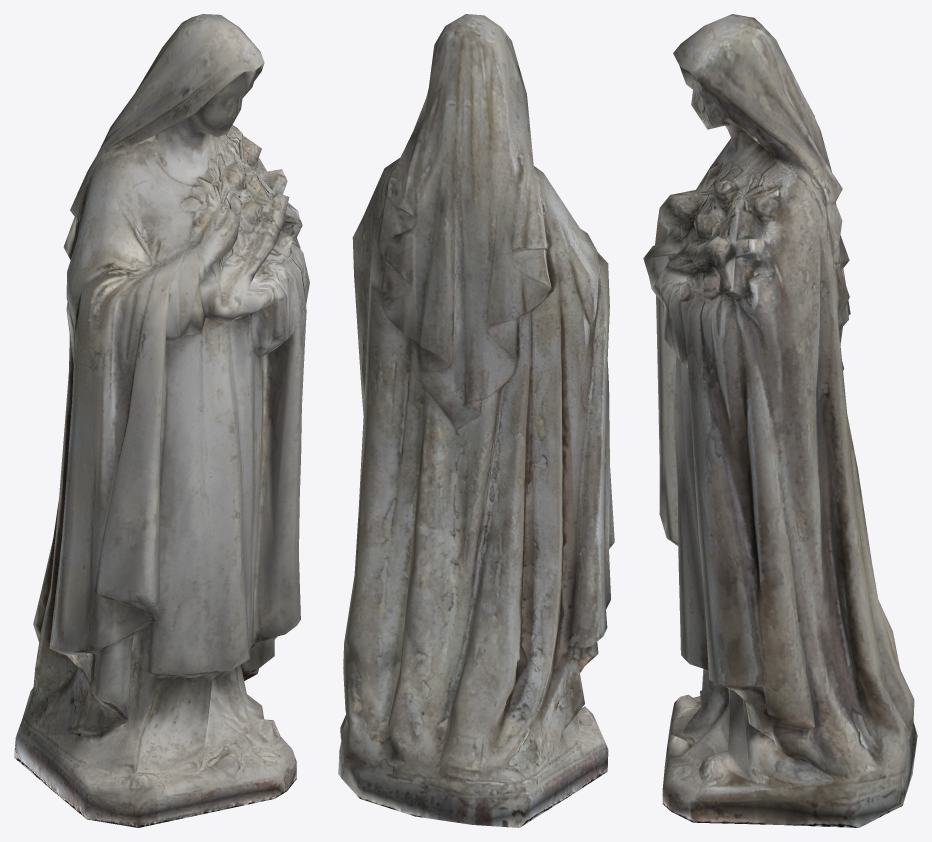
The model's file is virgin_mary_statue_low_poly.glb.
The picture shows the model from 3 angles, left to right: view 1: azimuth 30°, elevation 25°; view 2: azimuth 150°, elevation 25°; view 3: azimuth 270°, elevation 25°; orthographic projection. The views are drawn at different scales.
Parts seen in each view (by area): view 1: marie_1k_msh; view 2: marie_1k_msh; view 3: marie_1k_msh.
Part boxes in pixels (bbox=[...]): marie_1k_msh: bbox=[14, 14, 309, 827]; marie_1k_msh: bbox=[338, 14, 614, 827]; marie_1k_msh: bbox=[643, 14, 917, 827].
Size of the model in its own units: 0.1498 by 0.441 by 0.142.
Materials: 1 (1 with a texture image).
